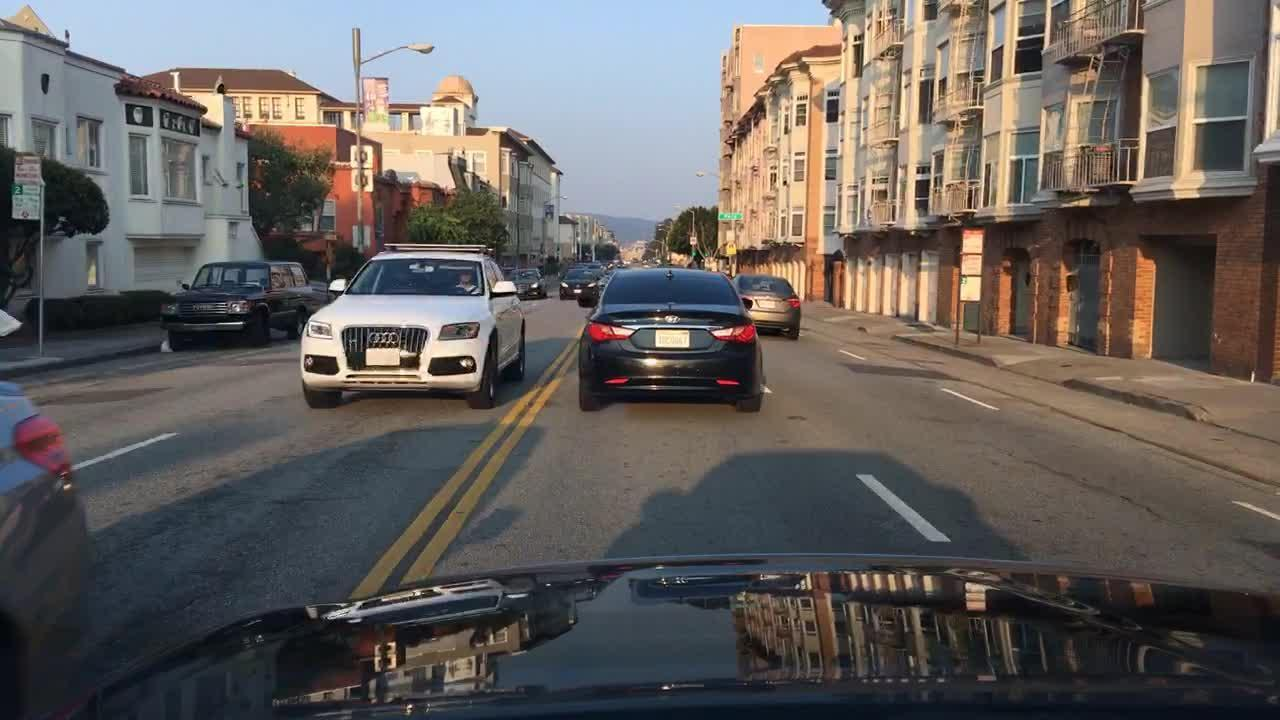Audi: (356, 322, 412, 349)
Honda: (663, 311, 690, 325)
